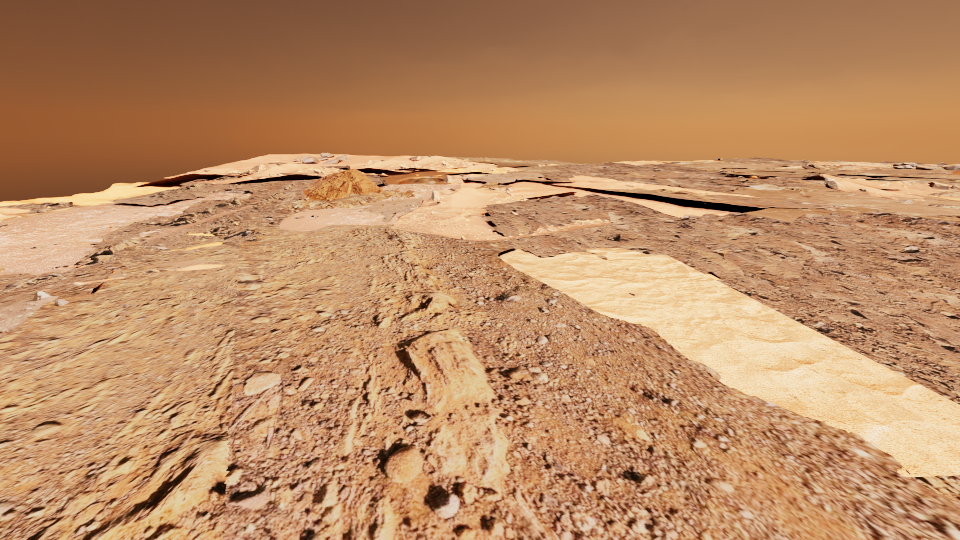bedrock: (482, 194, 959, 401), (277, 226, 511, 539), (12, 273, 237, 539), (0, 179, 450, 266), (461, 162, 824, 191), (717, 157, 912, 173), (0, 291, 58, 338), (625, 185, 724, 200), (907, 477, 959, 502), (2, 270, 61, 292), (0, 202, 79, 213), (690, 360, 720, 379), (449, 157, 527, 162), (791, 188, 812, 197), (368, 175, 386, 184), (108, 268, 123, 278), (834, 175, 879, 178), (762, 167, 798, 170), (212, 176, 237, 180), (225, 171, 250, 175), (54, 299, 68, 305), (321, 165, 349, 168), (31, 245, 48, 248), (937, 179, 959, 181)
hole: (397, 177, 443, 183)
rocks: (303, 169, 382, 199), (291, 153, 333, 163), (893, 163, 937, 169), (323, 154, 349, 163), (942, 164, 959, 170)
sand: (498, 239, 959, 476), (497, 176, 959, 222), (0, 182, 183, 220), (192, 154, 414, 171), (612, 160, 809, 173), (811, 172, 959, 178), (902, 178, 959, 185), (896, 166, 954, 171), (187, 242, 222, 249), (934, 385, 957, 395), (719, 233, 742, 242), (927, 190, 959, 196), (460, 182, 485, 188), (437, 168, 466, 172), (511, 169, 548, 172), (489, 167, 505, 173), (842, 166, 872, 169), (745, 175, 768, 178)
soil: (0, 190, 959, 539), (0, 202, 138, 233), (136, 164, 289, 186), (361, 162, 470, 189), (889, 368, 959, 404), (161, 205, 254, 231), (704, 194, 844, 210), (456, 157, 582, 166), (834, 182, 897, 199), (598, 189, 693, 199), (926, 475, 959, 495), (756, 169, 825, 177), (856, 169, 959, 174), (632, 171, 705, 178), (913, 182, 953, 192), (301, 170, 338, 179), (506, 193, 537, 200), (196, 194, 225, 198), (0, 214, 20, 218)
